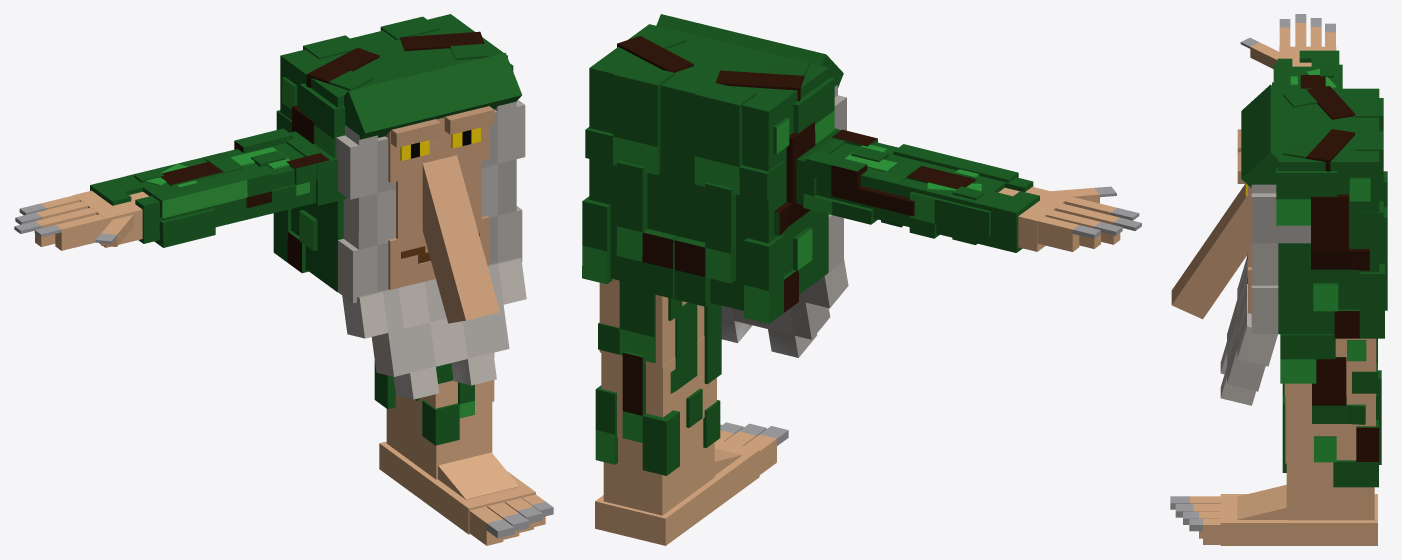
File: BrBrPatapim2.fbx
3 renders of one model, left to right at view 1: azimuth 30°, elevation 25°; view 2: azimuth 150°, elevation 25°; view 3: azimuth 270°, elevation 25°, orthographic. The views are drawn at different scales.
Parts seen in each view (by area): view 1: models.001, models.002, models.003; view 2: models.001, models.003, models.002; view 3: models.001, models.003, models.002.
Boxes of the visible parts, x1,y1,x2,y2 form: models.001: (273,14,526,399); models.002: (14,128,346,250); models.003: (374,352,553,545); models.001: (582,14,848,357); models.003: (595,279,788,545); models.002: (796,128,1141,252); models.001: (1171,84,1387,405); models.003: (1170,334,1381,545); models.002: (1240,14,1342,90).
Bounding box in the file's own units: 782 × 688 × 345.
